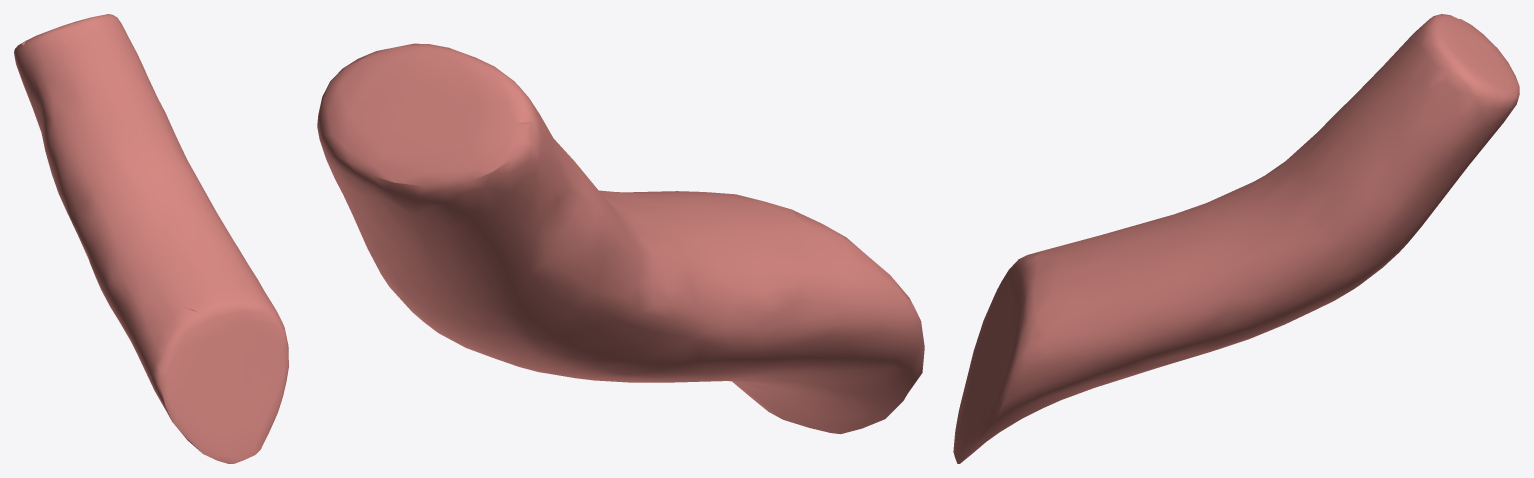
The model's file is fma42589_mm1971m.glb.
3 views of the same model, side by side, from view 1: azimuth 30°, elevation 25°; view 2: azimuth 150°, elevation 25°; view 3: azimuth 270°, elevation 25° (orthographic). The views are drawn at different scales.
Parts seen in each view (by area): view 1: FMA42589_MM1971M; view 2: FMA42589_MM1971M; view 3: FMA42589_MM1971M.
Part boxes in pixels (x1=…): FMA42589_MM1971M: x1=14, y1=14, x2=288, y2=463; FMA42589_MM1971M: x1=317, y1=43, x2=924, y2=434; FMA42589_MM1971M: x1=953, y1=14, x2=1519, y2=463.
Size of the model in its own units: 0.00419 by 0.00845 by 0.00993.
